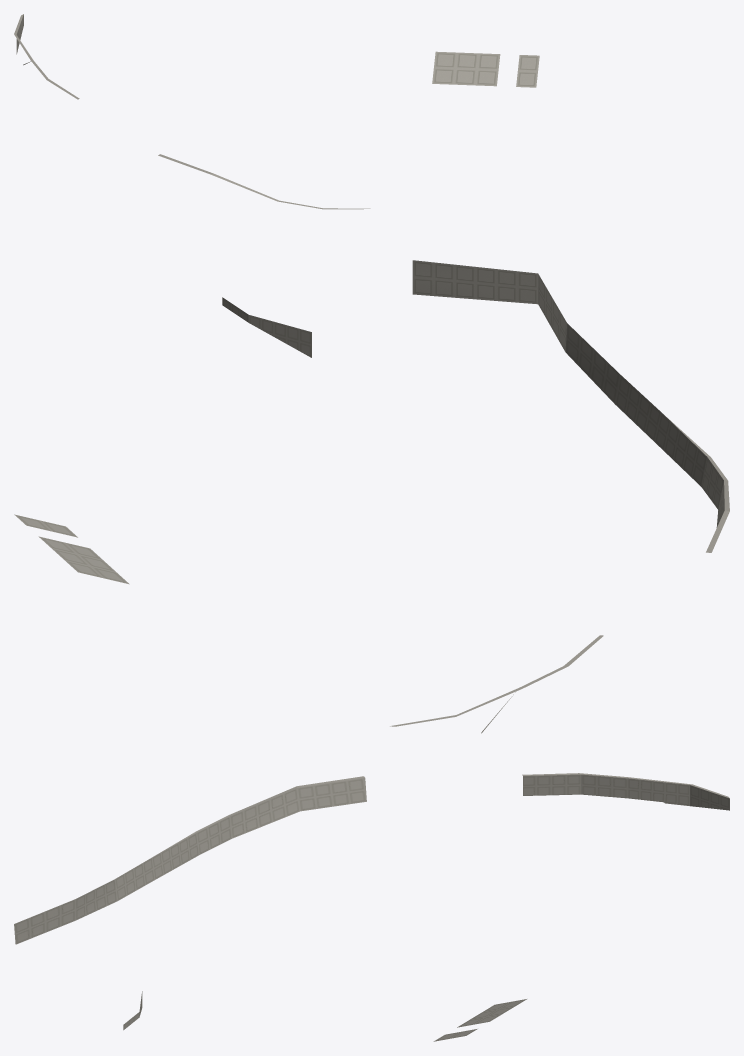
File: kd_stage_135ebf_2_1.glb
The picture shows the model from 3 angles, top to bottom: view 1: azimuth 30°, elevation 25°; view 2: azimuth 150°, elevation 25°; view 3: azimuth 270°, elevation 25°; orthographic projection. The views are drawn at different scales.
Visible parts, largest first — view 1: kd_stage_135ebf_2_1; view 2: kd_stage_135ebf_2_1; view 3: kd_stage_135ebf_2_1.
Part boxes in pixels (x1=…): kd_stage_135ebf_2_1: x1=14, y1=14, x2=539, y2=209; kd_stage_135ebf_2_1: x1=14, y1=260, x2=729, y2=733; kd_stage_135ebf_2_1: x1=14, y1=773, x2=729, y2=1041.
Size of the model in its own units: 93.88 by 11.2 by 123.
1 material, 1 textured.
